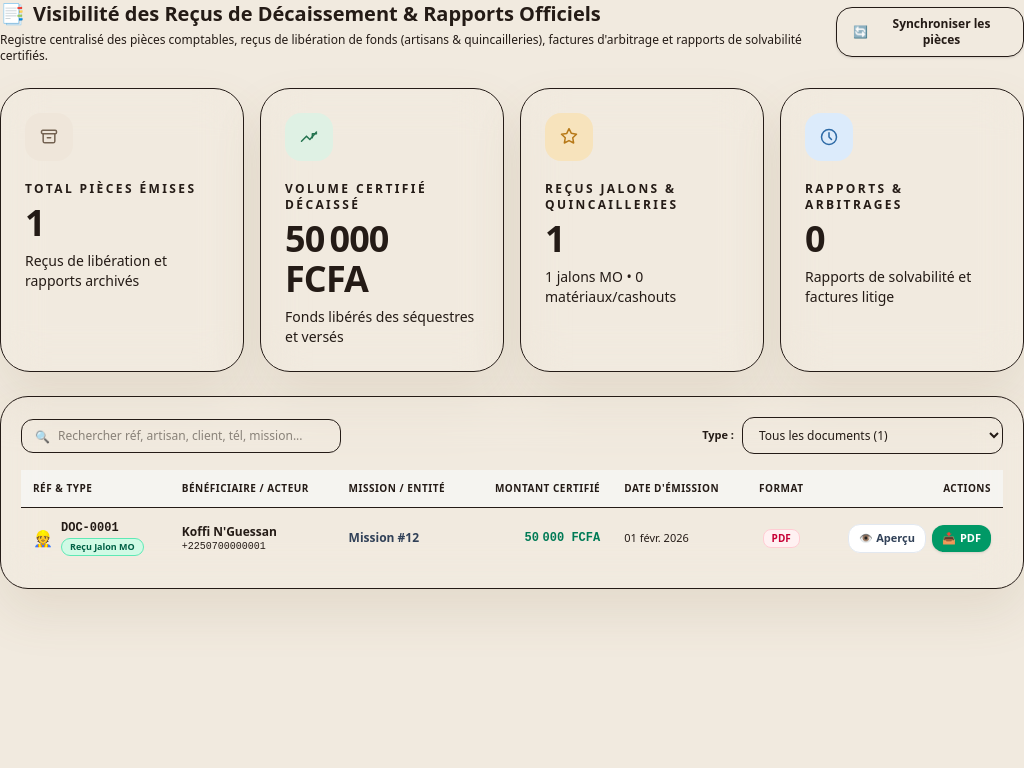
Test: DocumentsReportsSection › ouvre l'aperçu détaillé d'un document
Click the button "👁️ Aperçu": (887, 538) [848,524,926,553]
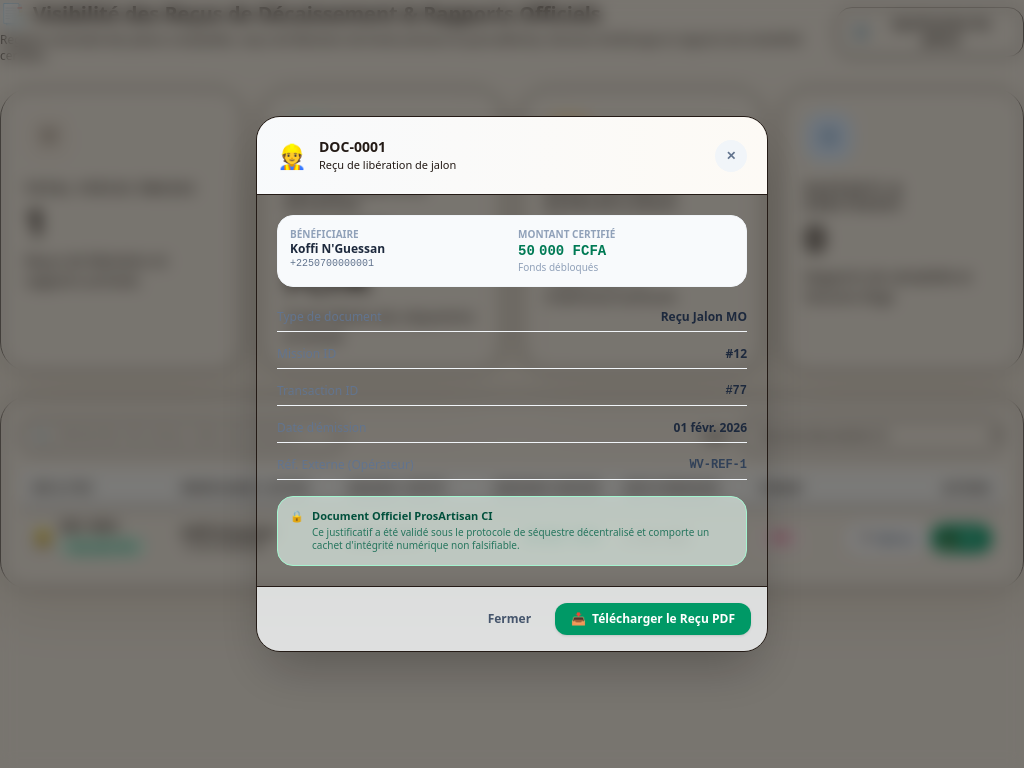
Now the text "Document Officiel ProsArtisan CI" is shown, box [312,508,492,523]
Now the text "#77" is shown, box [725,383,747,399]
Now the text "WV-REF-1" is shown, box [689,457,747,473]
